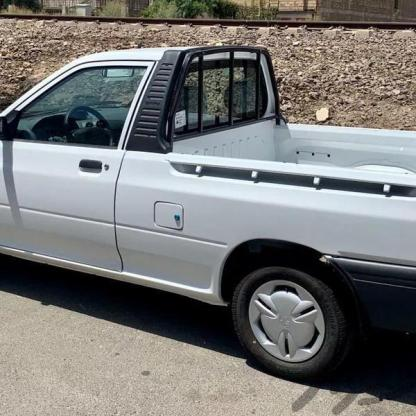Car: (0, 42, 416, 356)
